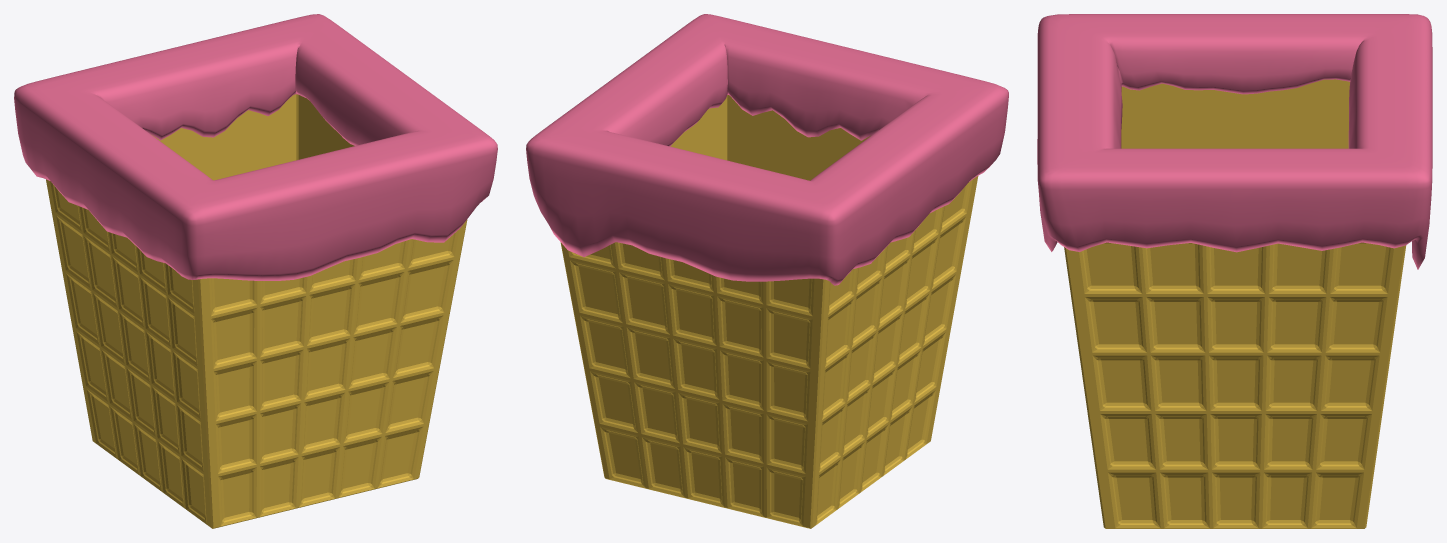
The model's file is Baca.fbx.
The picture shows the model from 3 angles, left to right: view 1: azimuth 30°, elevation 25°; view 2: azimuth 150°, elevation 25°; view 3: azimuth 270°, elevation 25°; orthographic projection. The views are drawn at different scales.
Parts seen in each view (by area): view 1: Plane, Plane.001; view 2: Plane, Plane.001; view 3: Plane, Plane.001.
Part boxes in pixels (x1,y1,x2,y2): Plane: (46,94,467,528); Plane.001: (14,14,497,280); Plane: (560,95,978,528); Plane.001: (526,14,1008,285); Plane: (1064,79,1406,528); Plane.001: (1037,14,1432,269).
Bounding box in the file's own units: 301 × 321 × 301.
